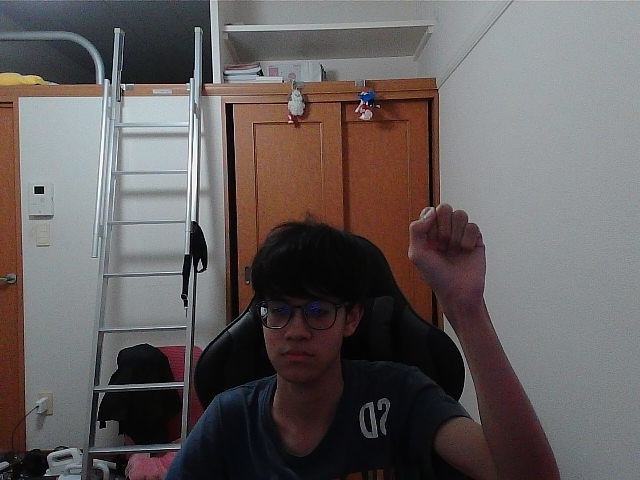closed_palm: (415, 208, 475, 287)
